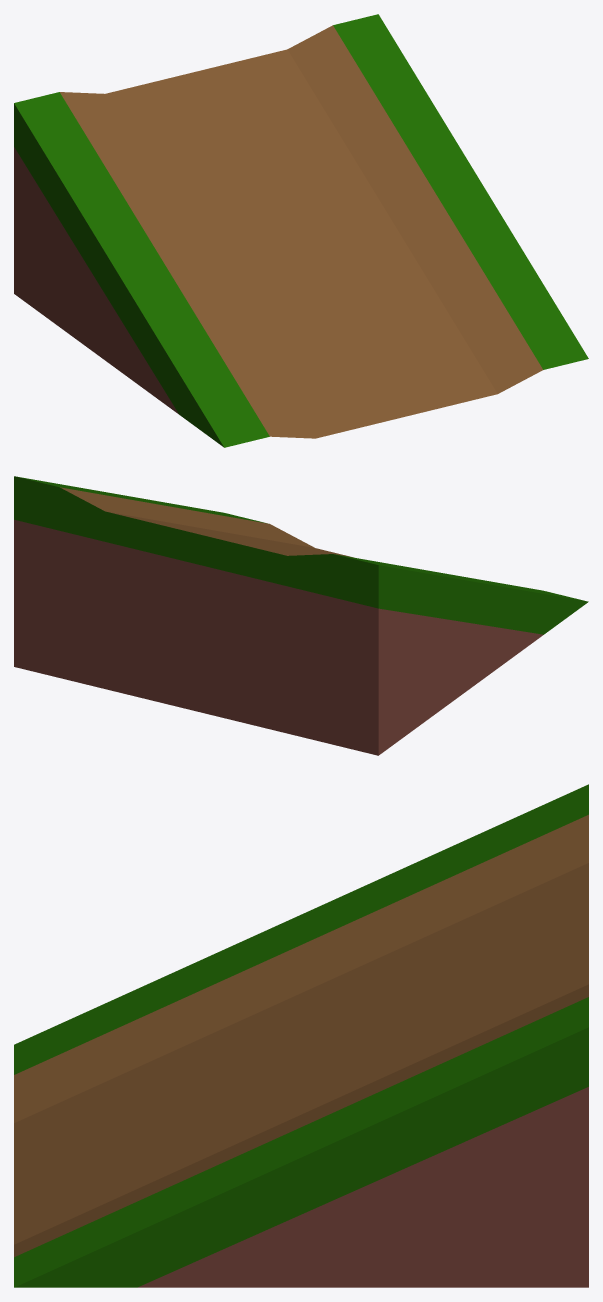
Rendered from Plain_Grass_Path_Slope.glb.
3 renders of one model, top to bottom at view 1: azimuth 30°, elevation 25°; view 2: azimuth 150°, elevation 25°; view 3: azimuth 270°, elevation 25°, orthographic. The views are drawn at different scales.
Visible parts, largest first — view 1: Plain Grass Path Slope; view 2: Plain Grass Path Slope; view 3: Plain Grass Path Slope.
Part boxes in pixels (x1,y1,x2,y2): Plain Grass Path Slope: [14, 14, 588, 447]; Plain Grass Path Slope: [14, 476, 588, 755]; Plain Grass Path Slope: [14, 784, 588, 1287].
Size of the model in its own units: 2 by 1.07 by 2.
Materials: 1 (1 with a texture image).
